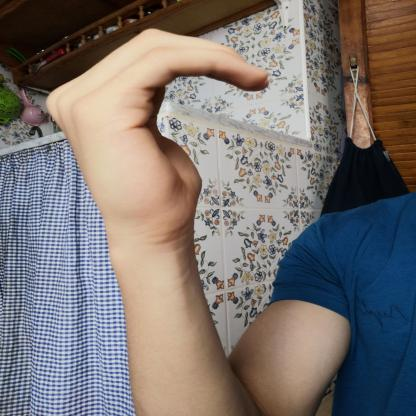HAA: (27, 17, 279, 246)
